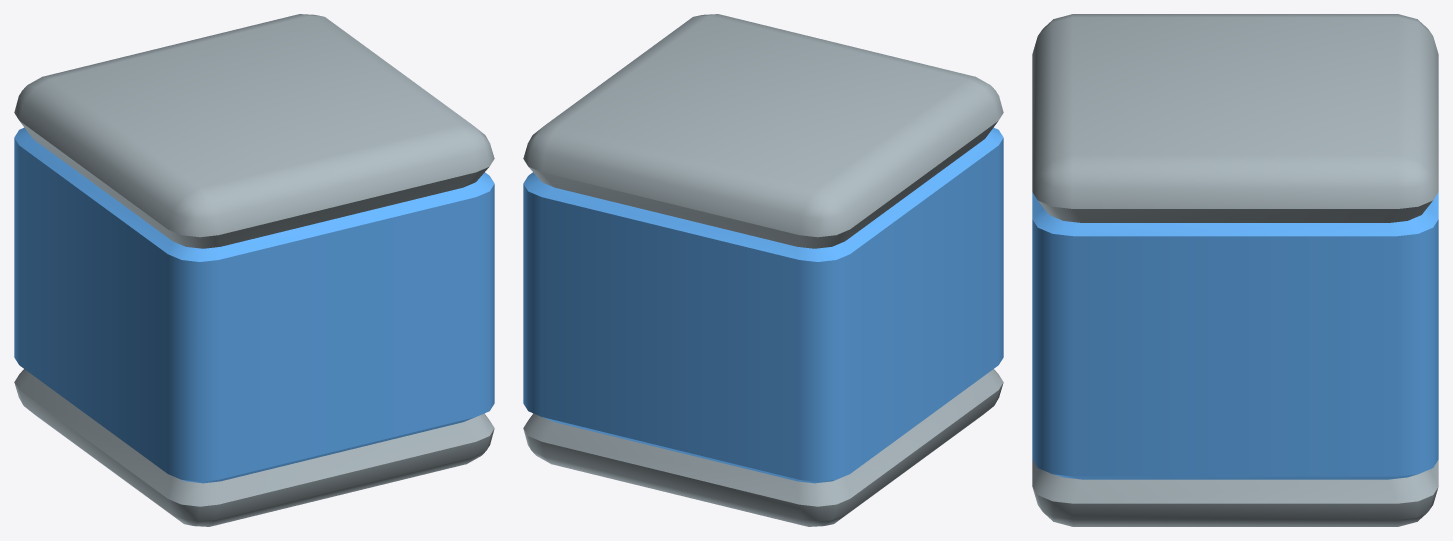
File: powerupBlock_teamBlue-col.glb
3 renders of one model, left to right at view 1: azimuth 30°, elevation 25°; view 2: azimuth 150°, elevation 25°; view 3: azimuth 270°, elevation 25°, orthographic. The views are drawn at different scales.
Parts seen in each view (by area): view 1: powerupBlock_teamBlue-col; view 2: powerupBlock_teamBlue-col; view 3: powerupBlock_teamBlue-col.
Boxes of the visible parts, <box> form: powerupBlock_teamBlue-col: <box>14,14,494,526</box>; powerupBlock_teamBlue-col: <box>523,14,1003,526</box>; powerupBlock_teamBlue-col: <box>1032,14,1438,526</box>.
Bounding box in the file's own units: 1 × 1 × 1.
